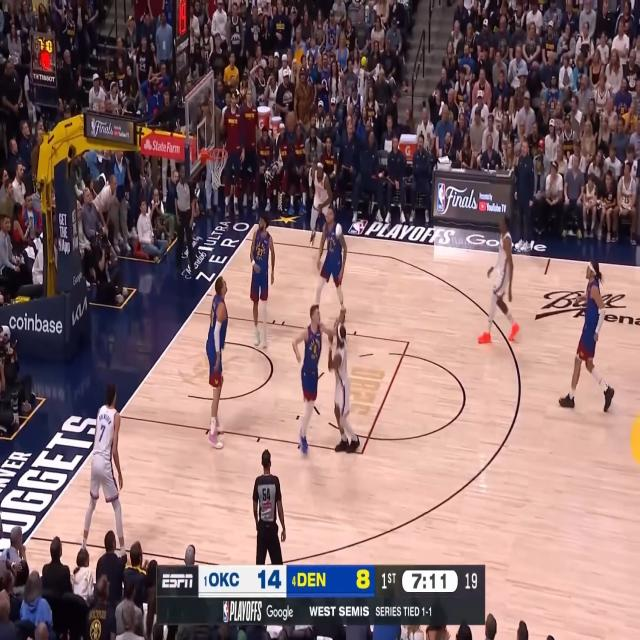ball: (286, 111, 298, 132)
number: (99, 423, 106, 442), (258, 248, 264, 256)
player: (80, 380, 130, 566), (558, 257, 616, 411), (292, 303, 338, 460), (476, 214, 521, 345), (327, 306, 361, 454), (316, 203, 349, 326), (207, 274, 230, 449), (249, 213, 276, 351), (308, 161, 333, 250)
referee: (253, 448, 286, 566), (175, 164, 196, 278)
rim: (207, 148, 229, 161)
